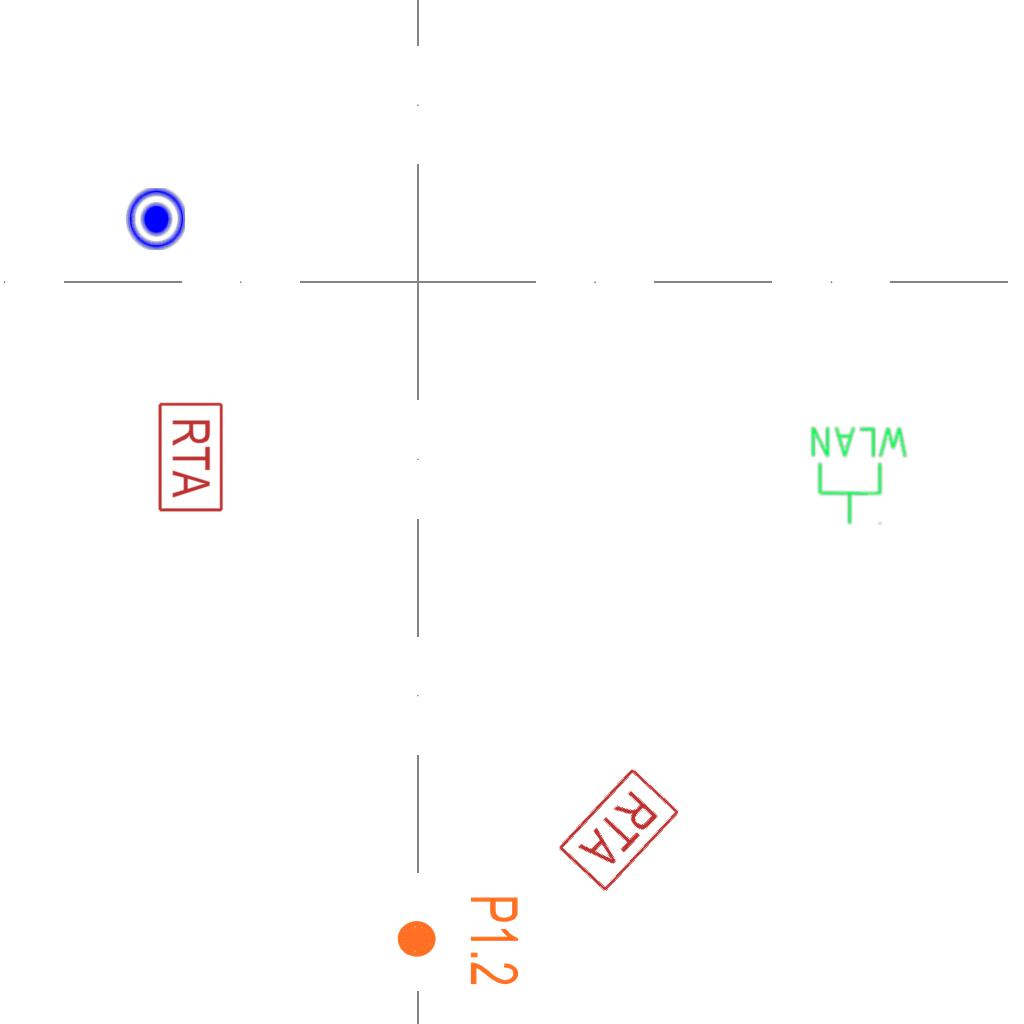Downlight_LED_Einbauleuchten_Flur: (394, 894, 522, 987)
Ruf-und_Abstelltaster: (555, 763, 684, 895), (156, 399, 225, 513)
Taster: (121, 186, 187, 252)
WLAN: (807, 423, 912, 527)
